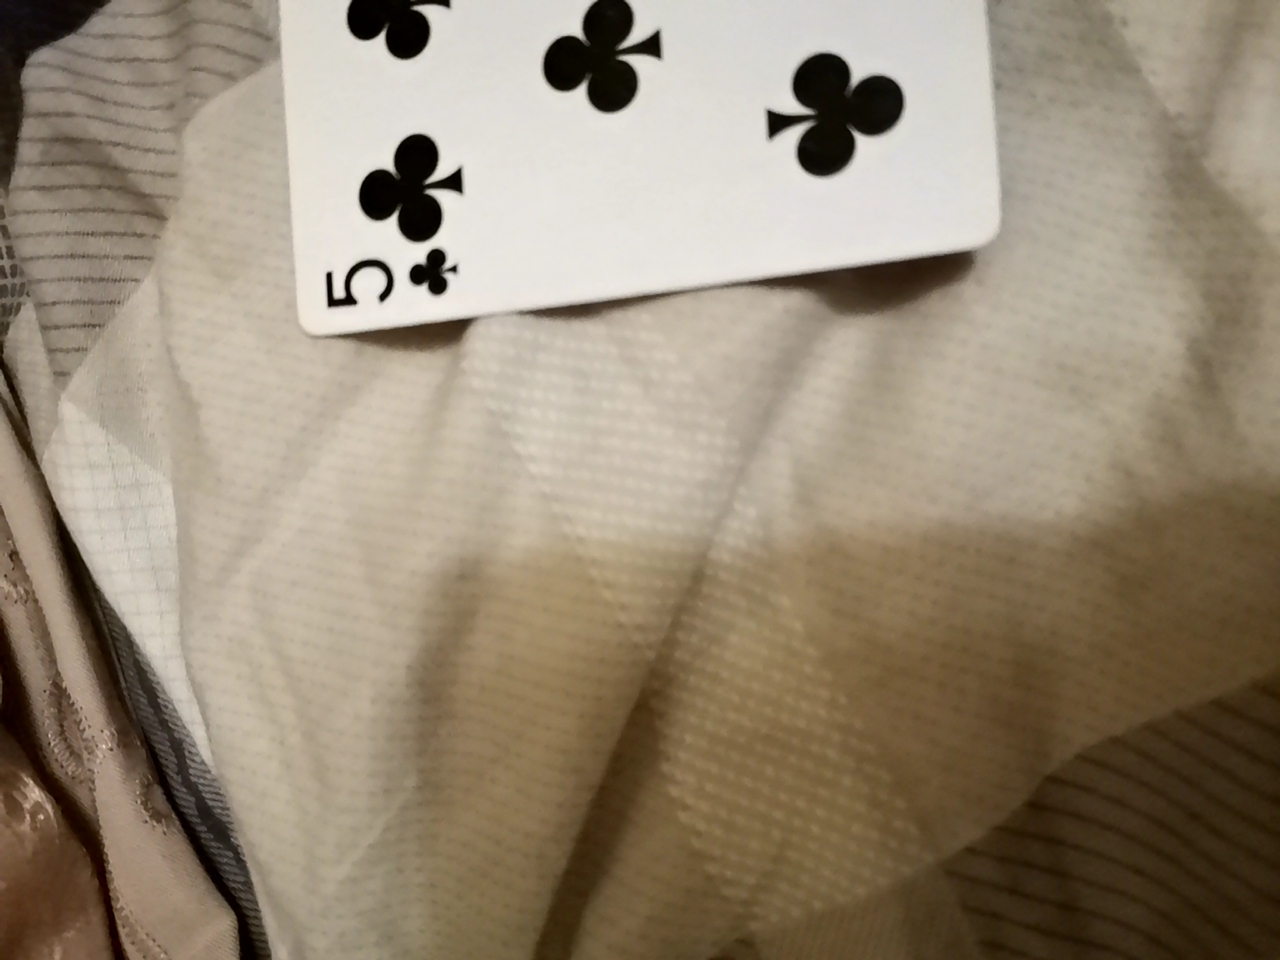mh 5: (279, 2, 1024, 351)
